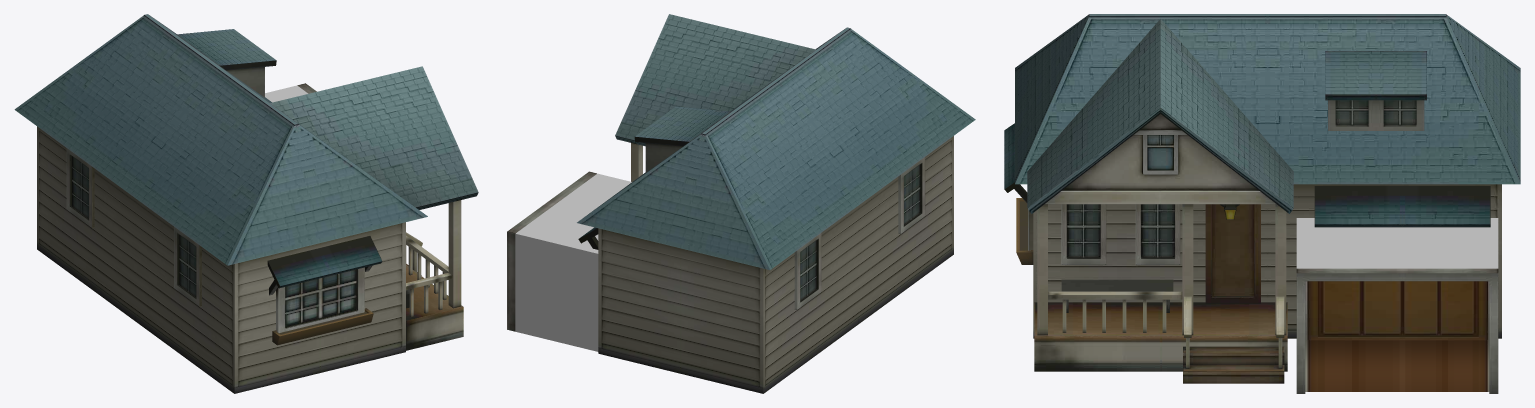
The model's file is house2.fbx.
3 views of the same model, side by side, from view 1: azimuth 30°, elevation 25°; view 2: azimuth 150°, elevation 25°; view 3: azimuth 270°, elevation 25° (orthographic). The views are drawn at different scales.
Visible parts, largest first — view 1: hous; view 2: hous; view 3: hous.
Part boxes in pixels (<box>): hous: <box>14,14,478,393</box>; hous: <box>507,14,975,393</box>; hous: <box>1004,14,1520,393</box>.
Size of the model in its own units: 1309 by 1025 by 1749.
